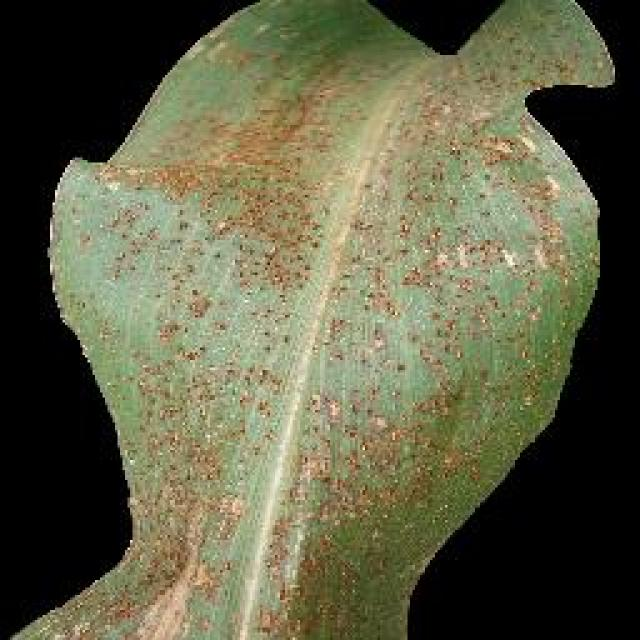Corn___Common_rust: (53, 113, 540, 637)
